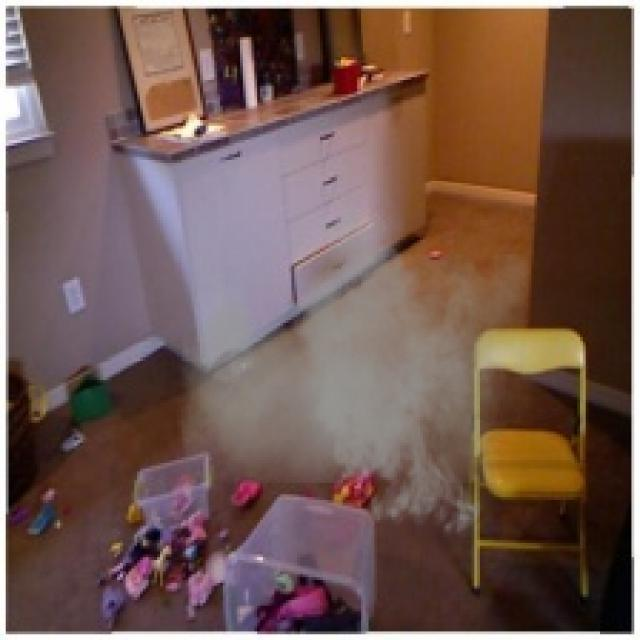Smoke: (177, 191, 529, 546)
